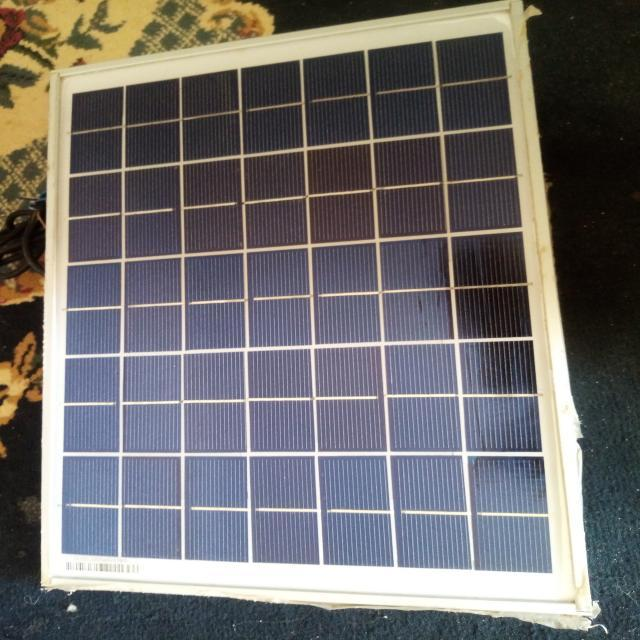no faulty: (43, 3, 587, 611)
